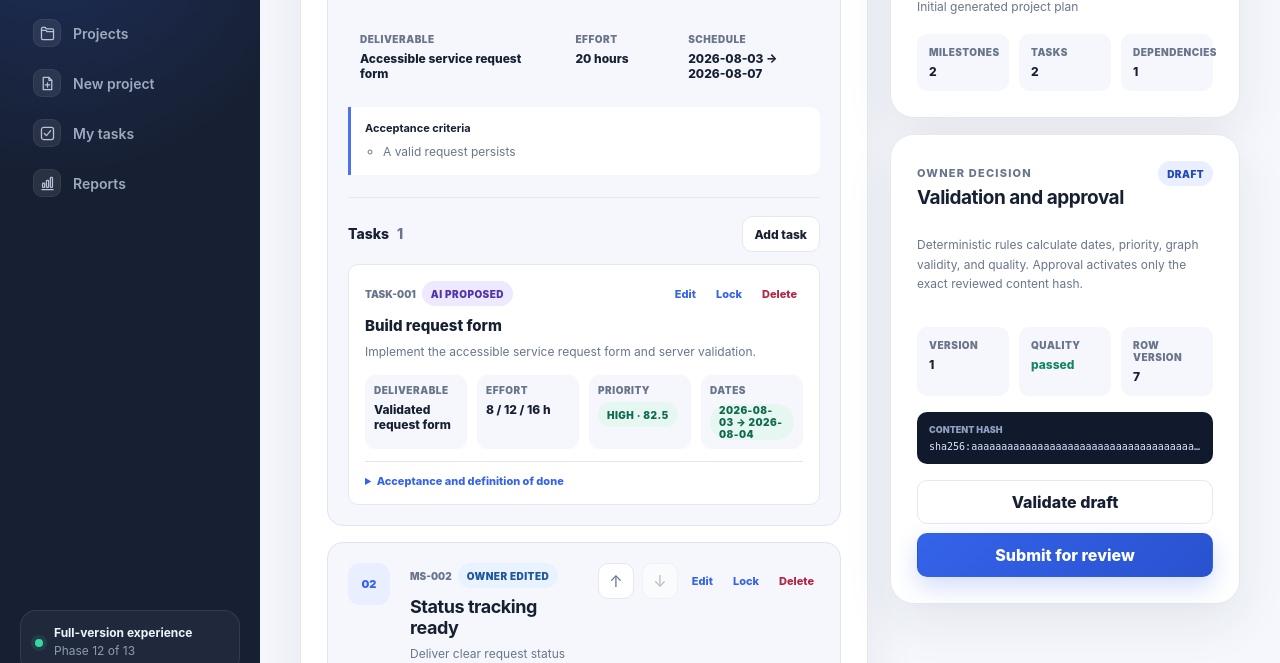
Test case: plan review experience › guards keyboard navigation when an editor has unsaved changes
(page scrolled)
expect the list item "Build request form" is shown: met, box [348,264,820,505]
Click the button "Edit" below "2026-08-07".
click(685, 294)  # box [669,286,702,302]
(page scrolled)
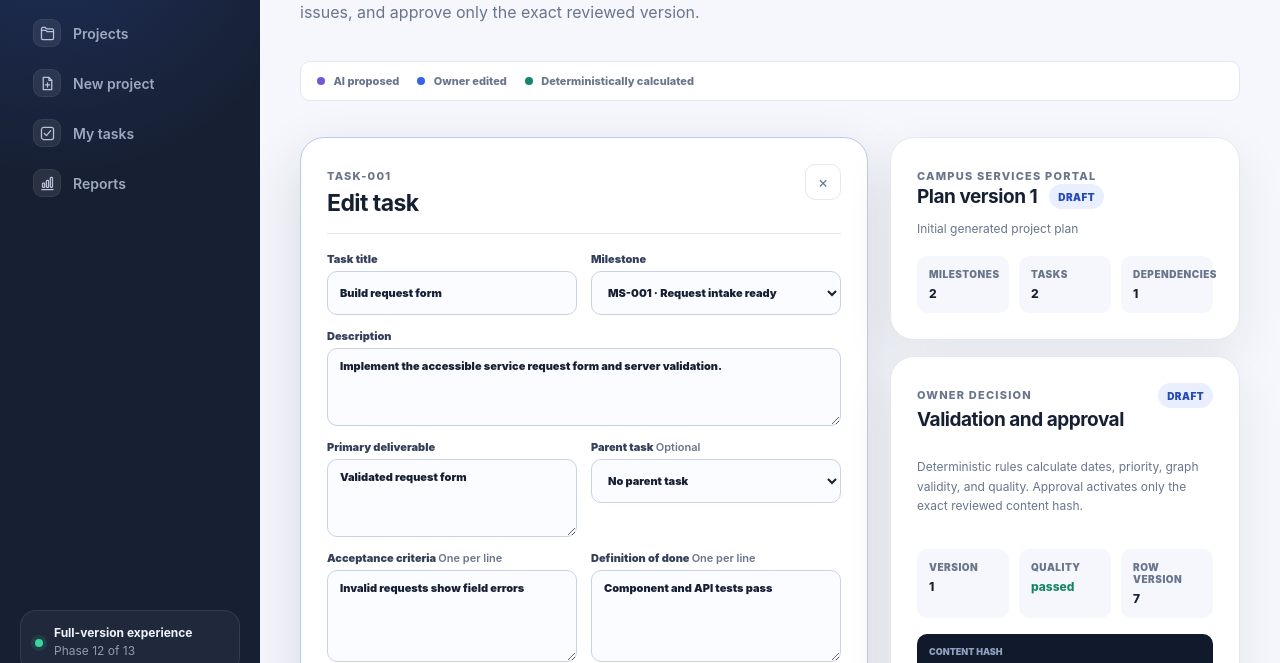
Replace the text in the field labelled "Task title" with "Build the accessible request form" at (452, 293), box [327,271,577,315]
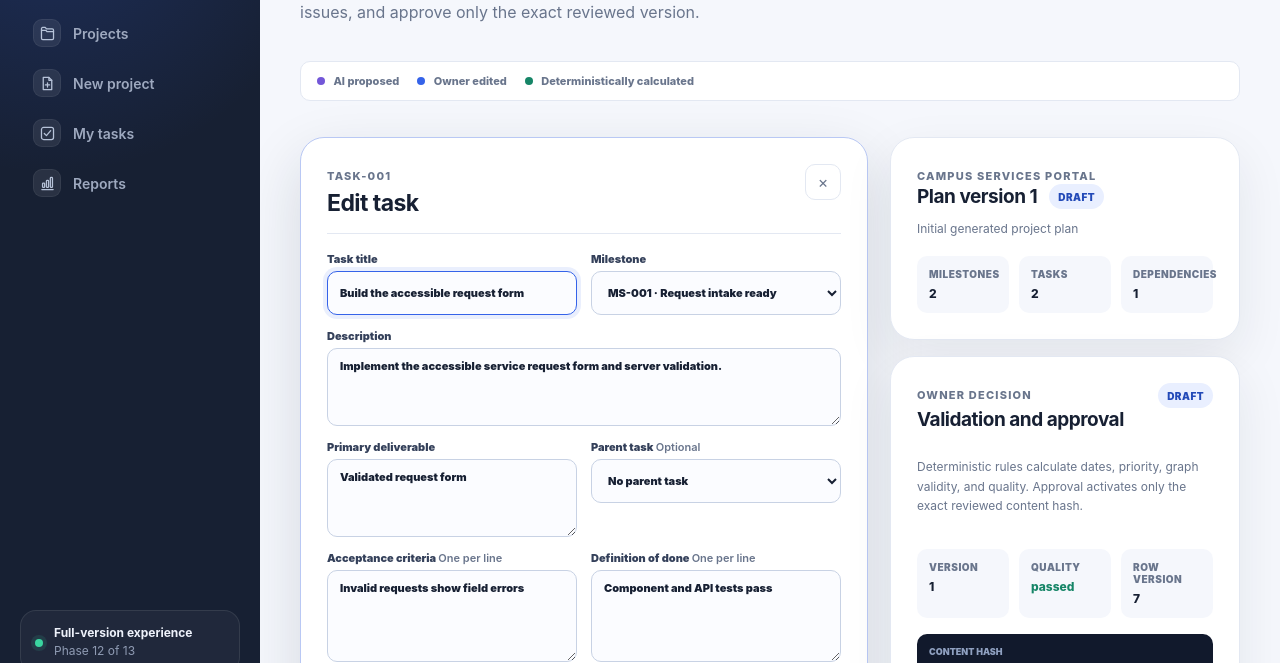
Click the link "Projects".
click(81, 33)  # box [33,19,128,47]
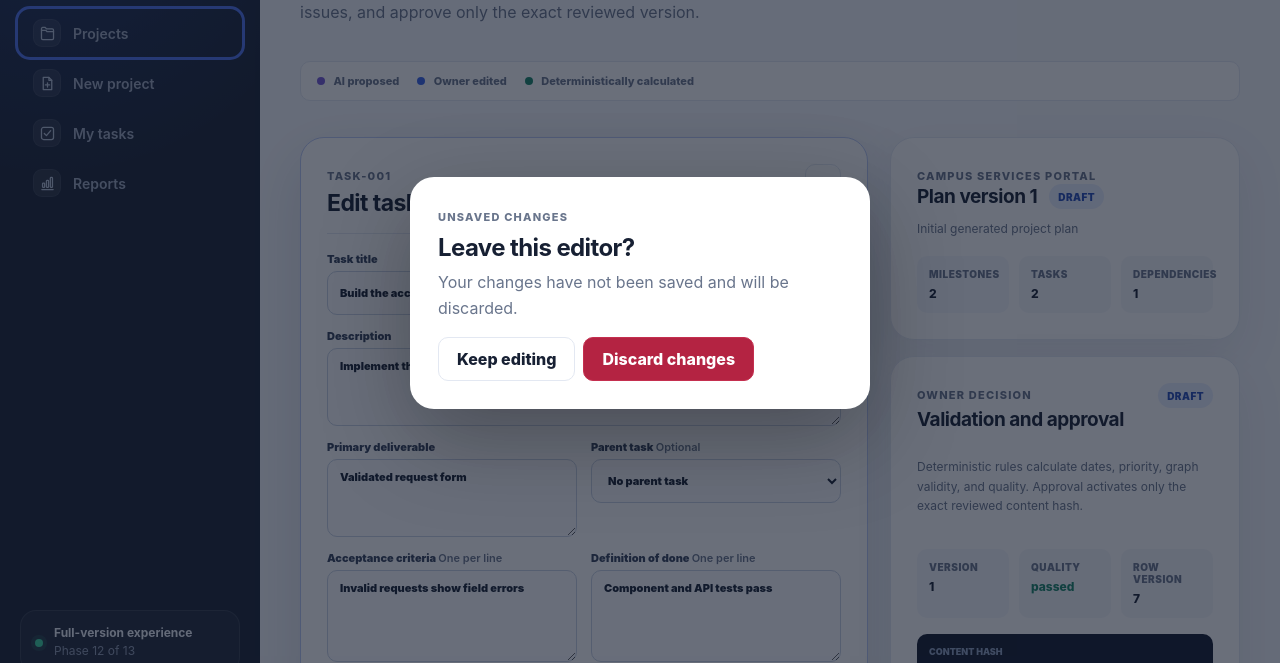
expect the dialog "Leave this editor?" is shown: met, box [410,177,870,409]
expect the button "Keep editing" is shown: met, box [438,337,576,381]
expect the button "Discard changes" is shown: met, box [584,337,754,381]
